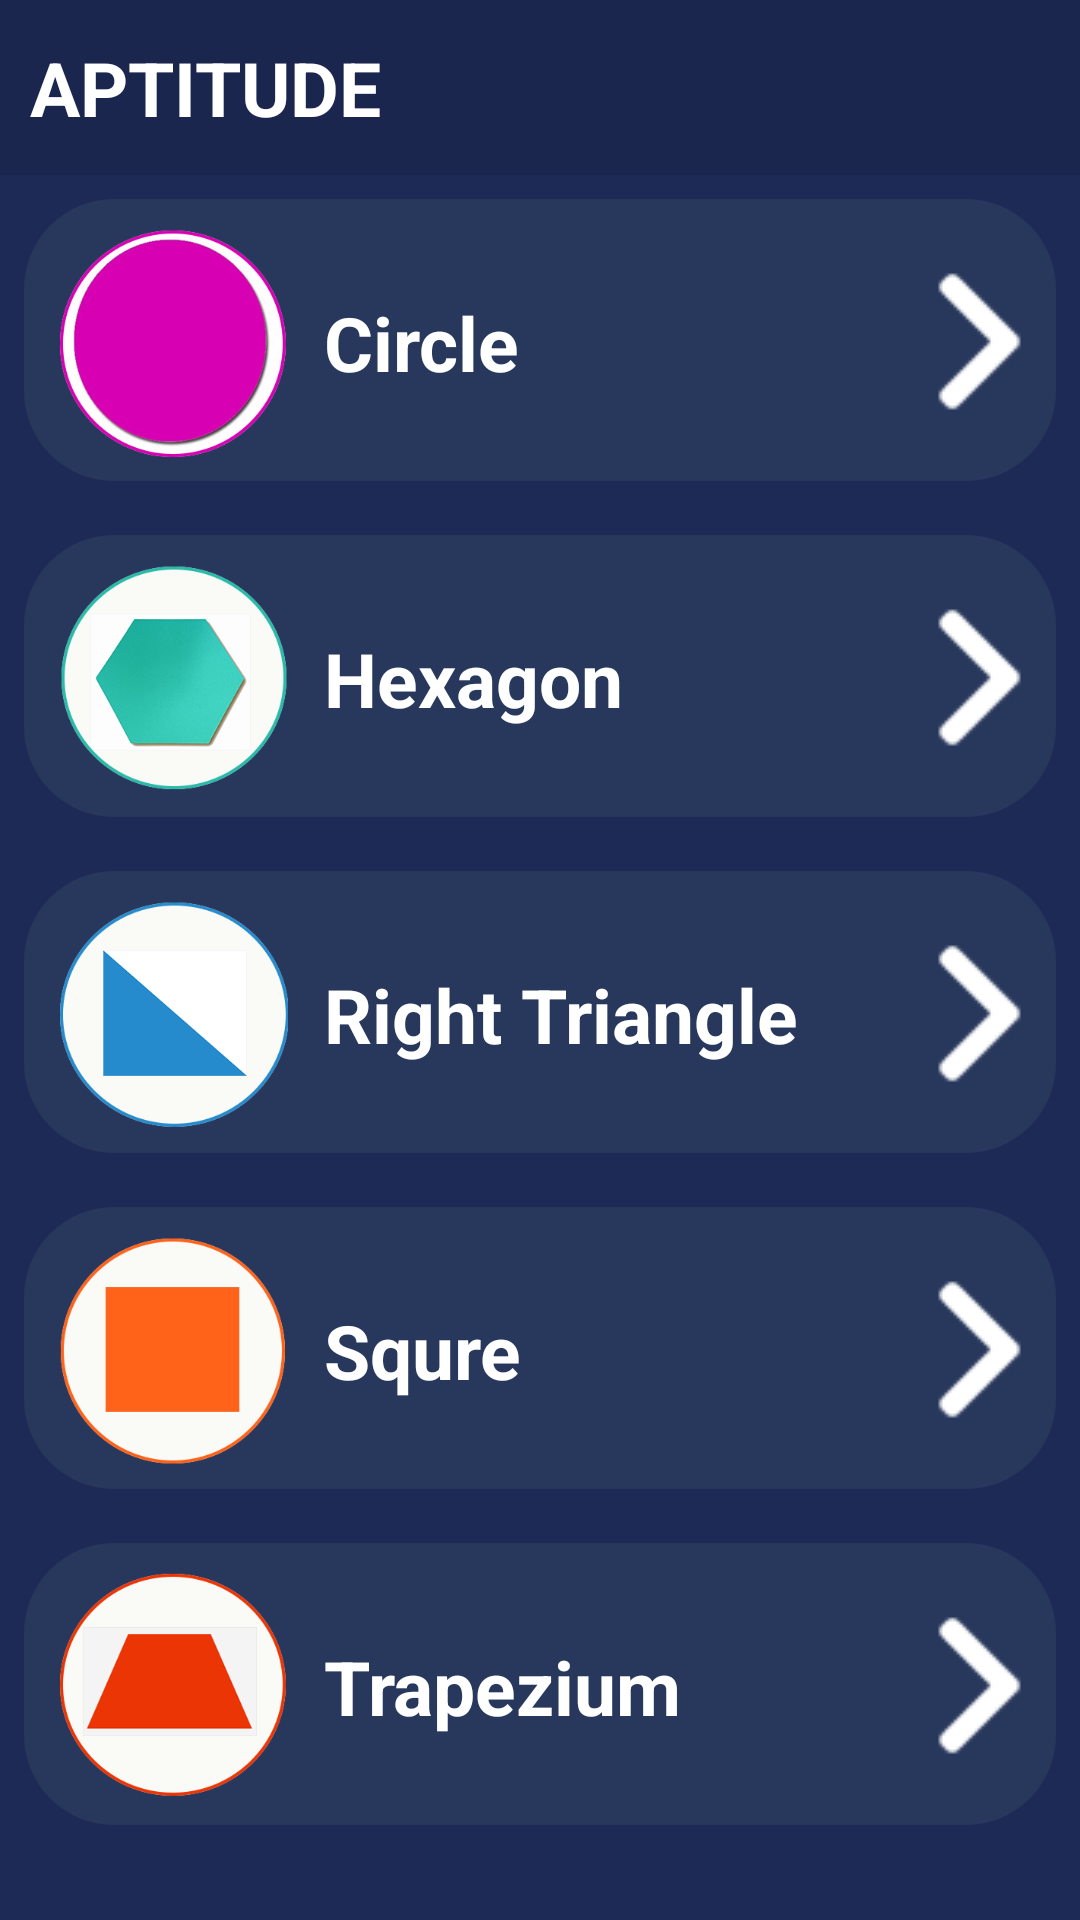

Named icons in this screenshot (1080 × 1920) and their centers, [x,y]:
arrow: [979,341], [979,677], [979,1013], [979,1349], [979,1685]
